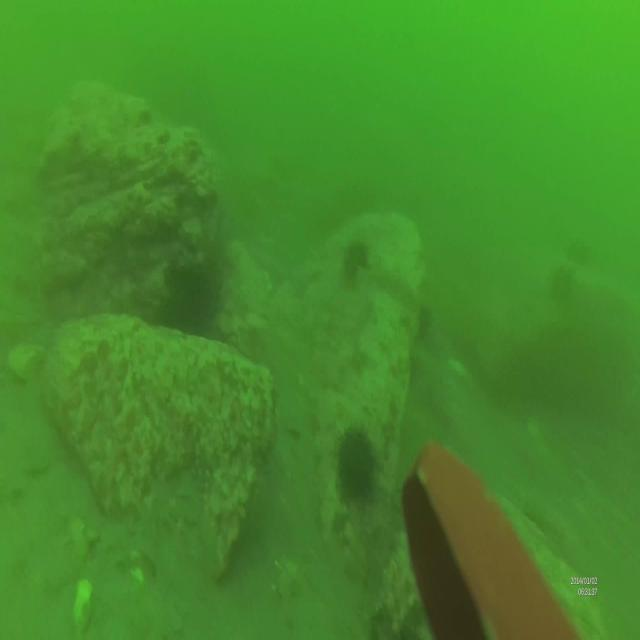echinus: (153, 252, 225, 337), (335, 420, 377, 508), (341, 235, 369, 291), (418, 300, 436, 346)
